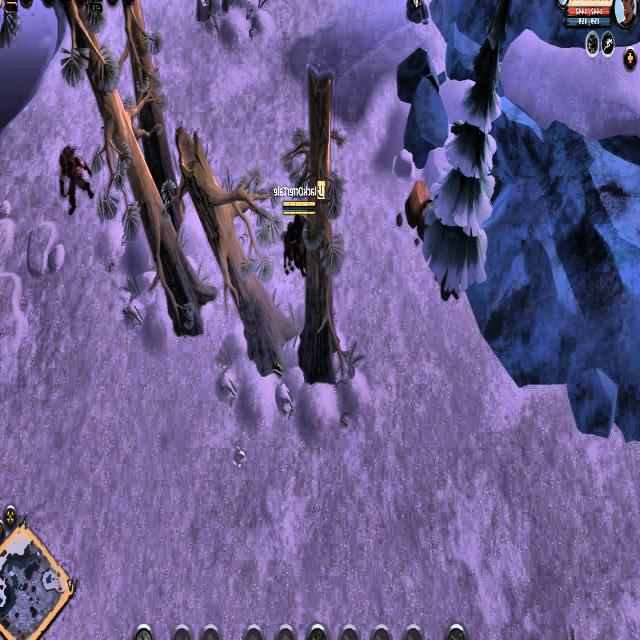copperore: (404, 0, 431, 23)
limestone: (402, 174, 439, 238)
